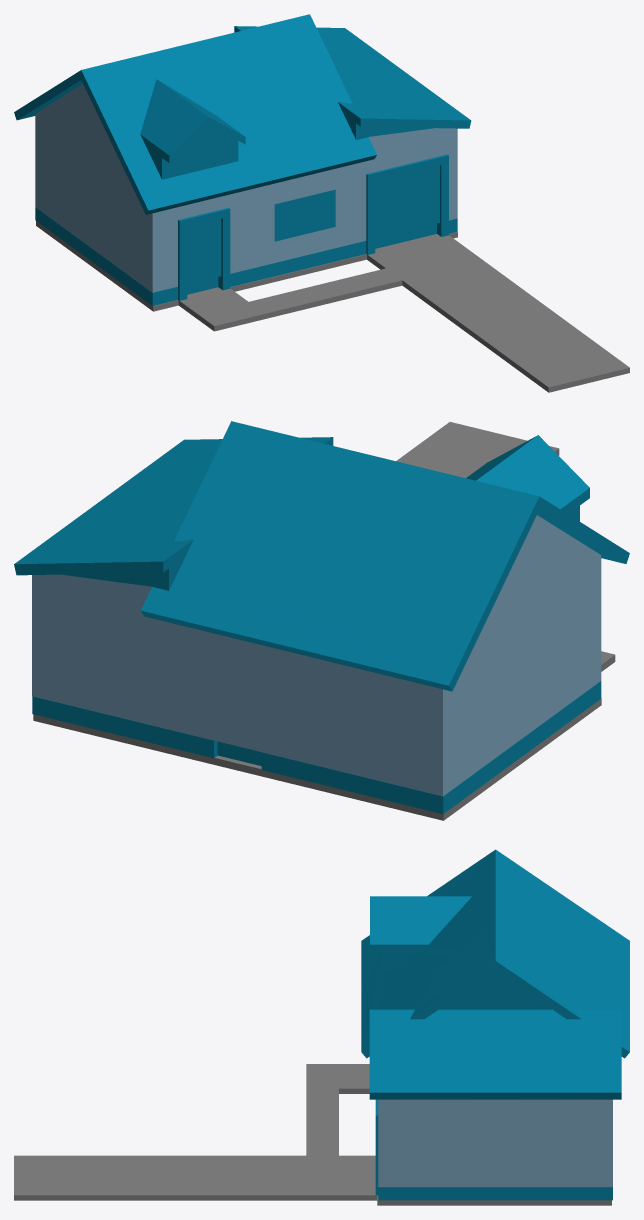
The model's file is blue_house.gltf.
3 views of the same model, one above another, from view 1: azimuth 30°, elevation 25°; view 2: azimuth 150°, elevation 25°; view 3: azimuth 270°, elevation 25° (orthographic). The views are drawn at different scales.
Size of the model in its own units: 1.29 by 0.7574 by 2.1.
